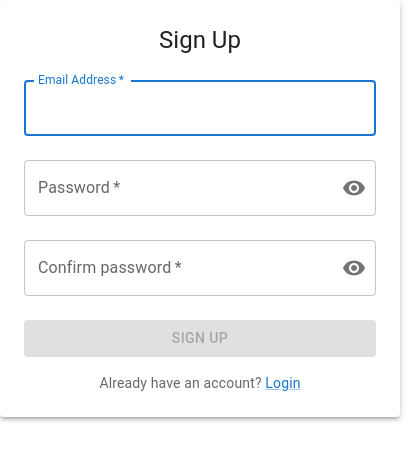
SignupForm › should show an error message if passwords do not match
Type "test@example.com" into the field with test id "input-email".
click(200, 108); type("test@example.com")  # box left=24, top=80, right=376, bottom=136
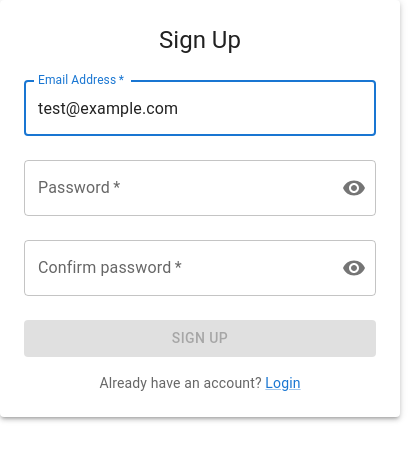
Type "password123" into the password field with test id "input-password".
click(175, 188); type("password123")  # box left=24, top=160, right=326, bottom=216
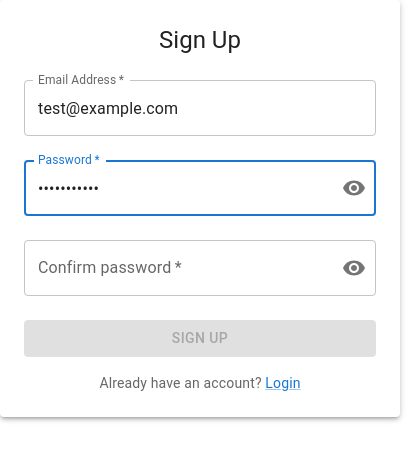
Type "password456" into the password field with test id "input-confirm-password".
click(175, 268); type("password456")  # box left=24, top=240, right=326, bottom=296
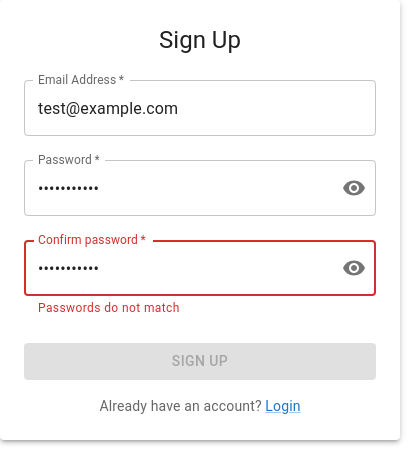
Expected: the button "Sign Up" is disabled, left=24, top=343, right=376, bottom=380
Expected: the text "Passwords do not match" is shown, left=38, top=301, right=180, bottom=315
